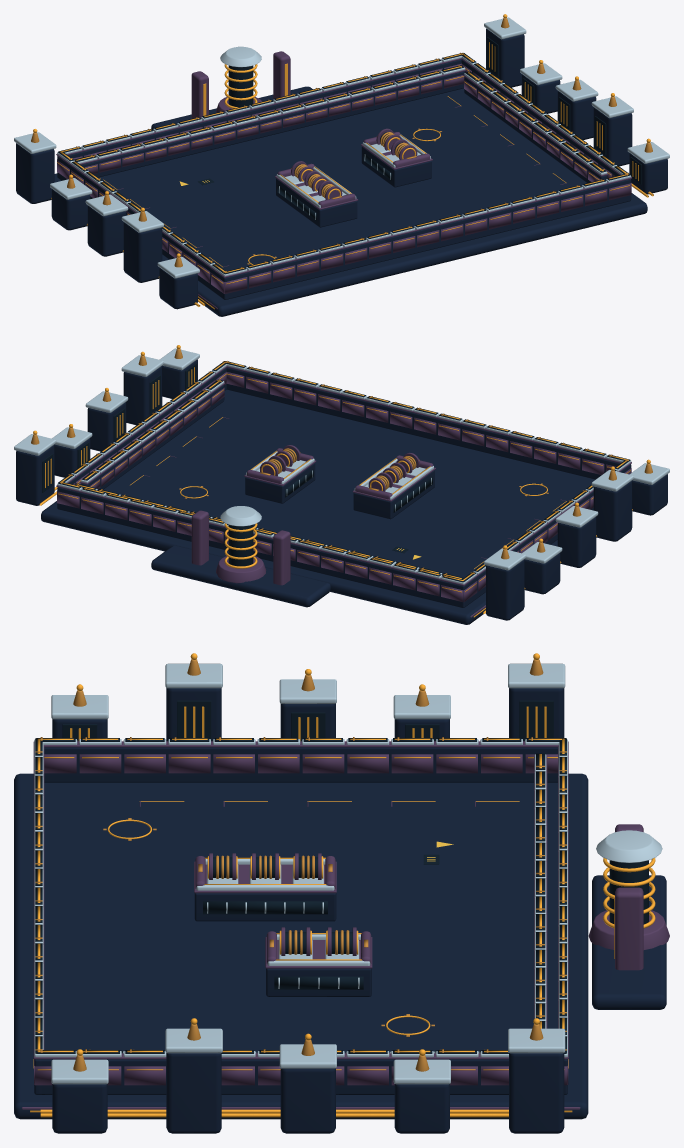
Rendered from forge.glb.
3 views of the same model, one above another, from view 1: azimuth 30°, elevation 25°; view 2: azimuth 150°, elevation 25°; view 3: azimuth 270°, elevation 25° (orthographic). The views are drawn at different scales.
Parts seen in each view (by area): view 1: Raised orbital deck, SOLID 1 border, SOLID 6 reflector, SOLID 0 border, Exterior dock pylon.003, Exterior dock pylon, Exterior dock pylon.002, Exterior dock pylon.008, Exterior dock pylon.005, SOLID 7 reflector, Exterior dock pylon.004, SOLID 4 cover (+24 smaller); view 2: Raised orbital deck, SOLID 1 border, SOLID 0 border, Horizon installation platform, Exterior dock pylon, Exterior dock pylon.003, Exterior dock pylon.005, Exterior dock pylon.002, Exterior dock pylon.008, SOLID 7 reflector, SOLID 4 cover, Exterior dock pylon.001 (+24 smaller); view 3: Raised orbital deck, SOLID 2 border, Horizon installation platform, SOLID 3 border, Exterior dock pylon.005, Exterior dock pylon.008, Exterior dock pylon.007, Exterior dock pylon.006, Exterior dock pylon.009, SOLID 4 cover, Reactor retaining arm.001, SOLID 5 cover (+43 smaller).
Boxes of the visible parts, box(x1,y1,x2,y2) form: Raised orbital deck: box(54, 88, 647, 316); SOLID 1 border: box(222, 179, 630, 299); SOLID 6 reflector: box(81, 71, 464, 177); SOLID 0 border: box(57, 59, 461, 177); Exterior dock pylon.003: box(123, 222, 162, 282); Exterior dock pylon: box(16, 143, 54, 203); Exterior dock pylon.002: box(87, 205, 126, 256); Exterior dock pylon.008: box(593, 107, 632, 166); Exterior dock pylon.005: box(486, 28, 524, 87); SOLID 7 reflector: box(464, 77, 607, 183); Exterior dock pylon.004: box(159, 268, 197, 309); SOLID 4 cover: box(276, 178, 357, 227); Raised orbital deck: box(41, 389, 594, 624); SOLID 1 border: box(226, 367, 631, 479); SOLID 0 border: box(57, 487, 466, 607); Horizon installation platform: box(151, 545, 330, 607); Exterior dock pylon: box(486, 560, 524, 620); Exterior dock pylon.003: box(593, 481, 632, 541); Exterior dock pylon.005: box(16, 445, 54, 505); Exterior dock pylon.002: box(557, 517, 596, 567); Exterior dock pylon.008: box(123, 366, 162, 425); SOLID 7 reflector: box(81, 385, 224, 489); SOLID 4 cover: box(353, 470, 434, 519); Exterior dock pylon.001: box(524, 553, 560, 594); Raised orbital deck: box(14, 773, 588, 1119); SOLID 2 border: box(44, 747, 557, 782); Horizon installation platform: box(592, 875, 666, 1009); SOLID 3 border: box(34, 1059, 567, 1094); Exterior dock pylon.005: box(509, 1053, 564, 1133); Exterior dock pylon.008: box(166, 1053, 221, 1133); Exterior dock pylon.007: box(280, 1068, 335, 1133); Exterior dock pylon.006: box(394, 1084, 449, 1133); Exterior dock pylon.009: box(52, 1084, 107, 1133); SOLID 4 cover: box(194, 893, 336, 921); Reactor retaining arm.001: box(615, 887, 643, 970); SOLID 5 cover: box(266, 968, 371, 996).
Size of the model in its own units: 25.51 by 3.69 by 18.39.
